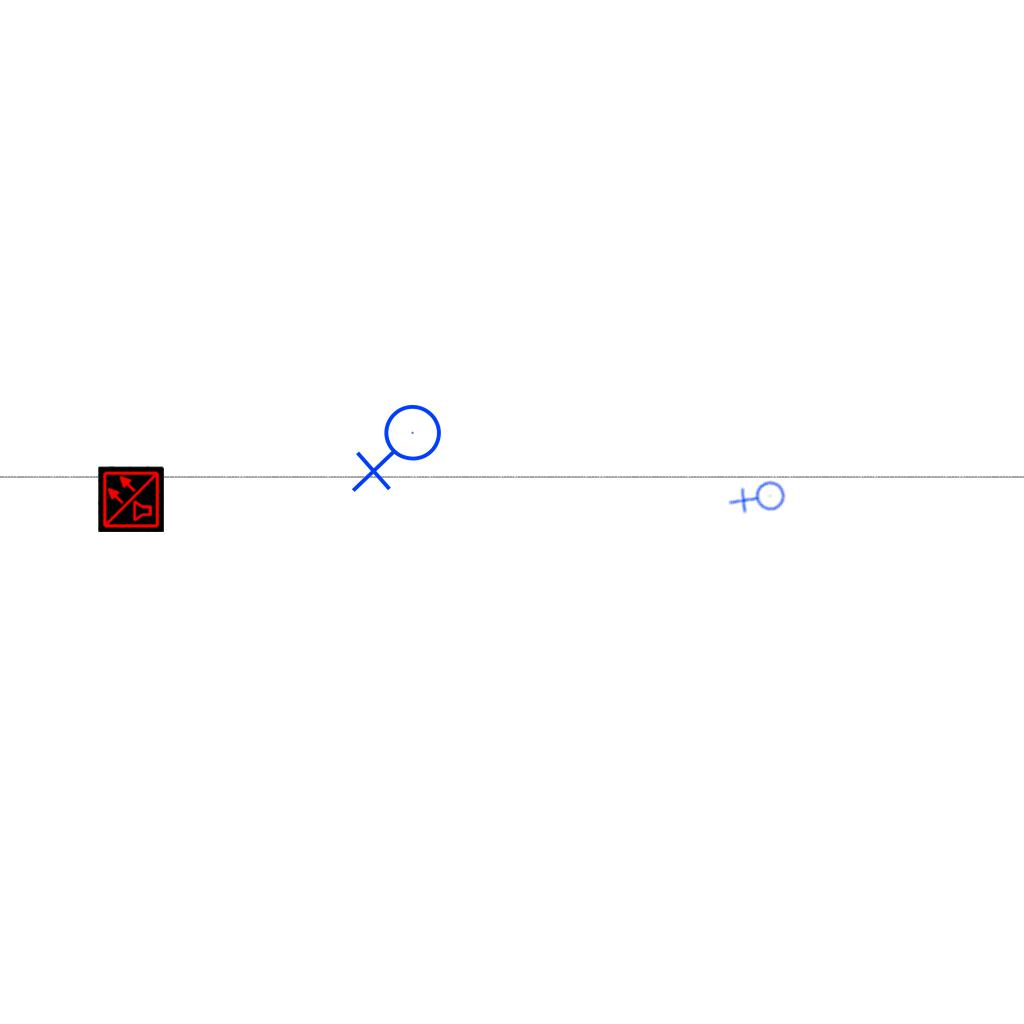Elektroanschluss_allgemein_230V_Geraeteanschlussdose_230V: (351, 403, 450, 497), (726, 466, 795, 533)
OKW_Multisensormelder_(Kombination_optischer_Rauch-Kahlenmonoxid_Waerme-Melder): (98, 466, 164, 532)
